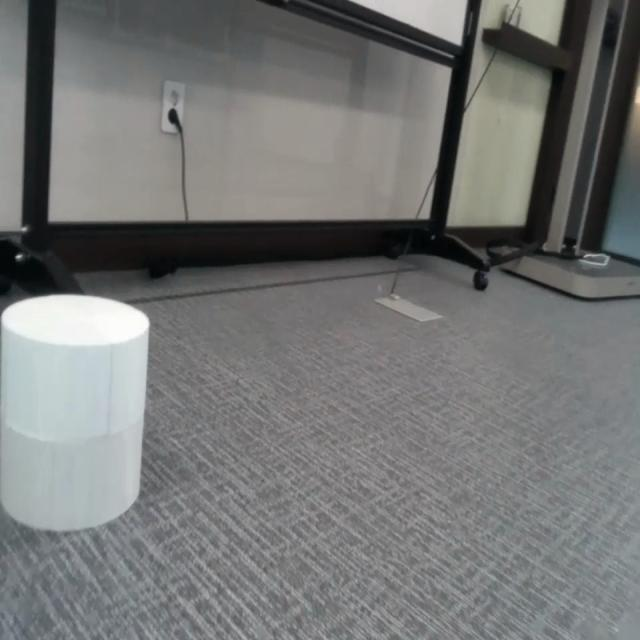cylinder: (0, 292, 151, 531)
